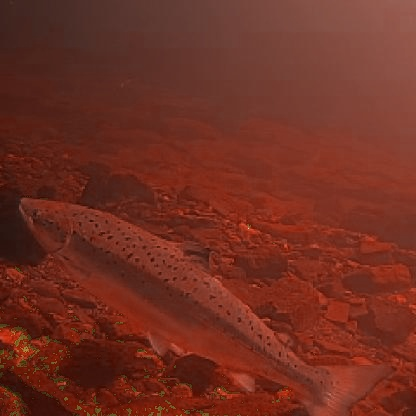salmon: (12, 189, 401, 414)
